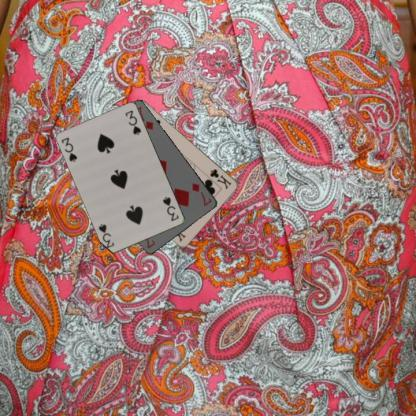3s: (59, 134, 79, 164), (160, 194, 180, 223)
7d: (189, 180, 213, 208)
Kc: (207, 166, 233, 191)
